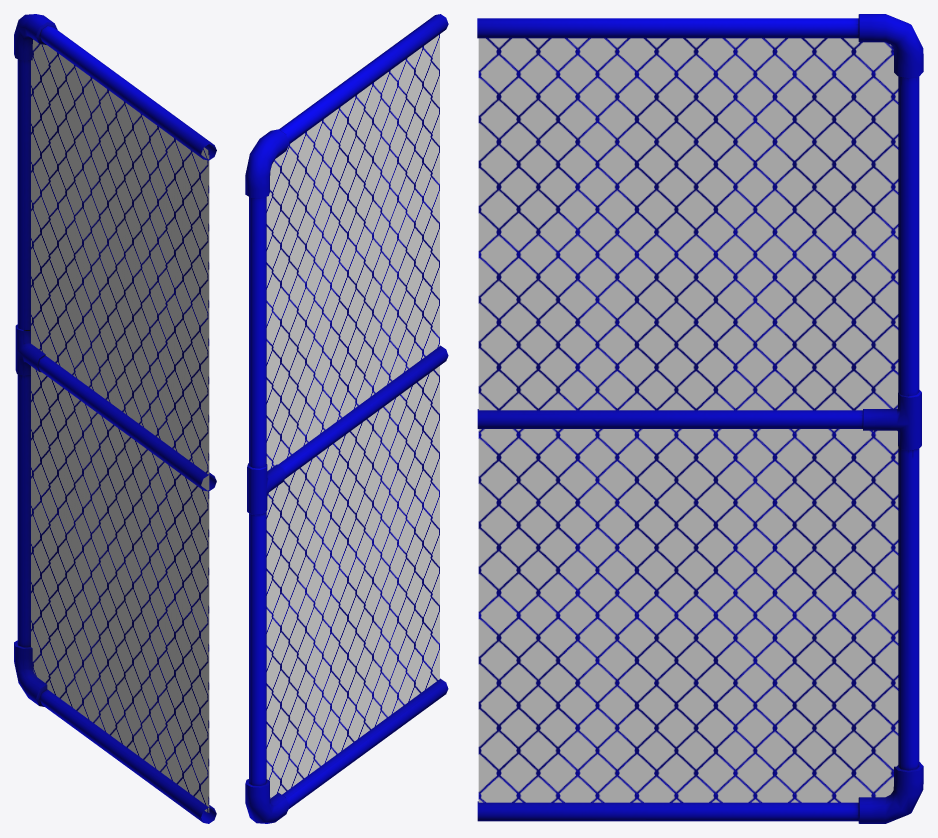
Rendered from CERCA.fbx.
3 views of the same model, side by side, from view 1: azimuth 30°, elevation 25°; view 2: azimuth 150°, elevation 25°; view 3: azimuth 270°, elevation 25° (orthographic). The views are drawn at different scales.
Parts seen in each view (by area): view 1: WireFance, Cylinder.003; view 2: WireFance, Cylinder.003; view 3: WireFance, Cylinder.003.
Part boxes in pixels (box(x1,y1,x2,y2)): WireFance: box(31, 39, 209, 812); Cylinder.003: box(14, 14, 216, 823); WireFance: box(266, 34, 439, 798); Cylinder.003: box(245, 14, 448, 823); WireFance: box(478, 38, 898, 802); Cylinder.003: box(477, 14, 923, 823).
Bounding box in the file's own units: 27.99 × 828 × 414.
